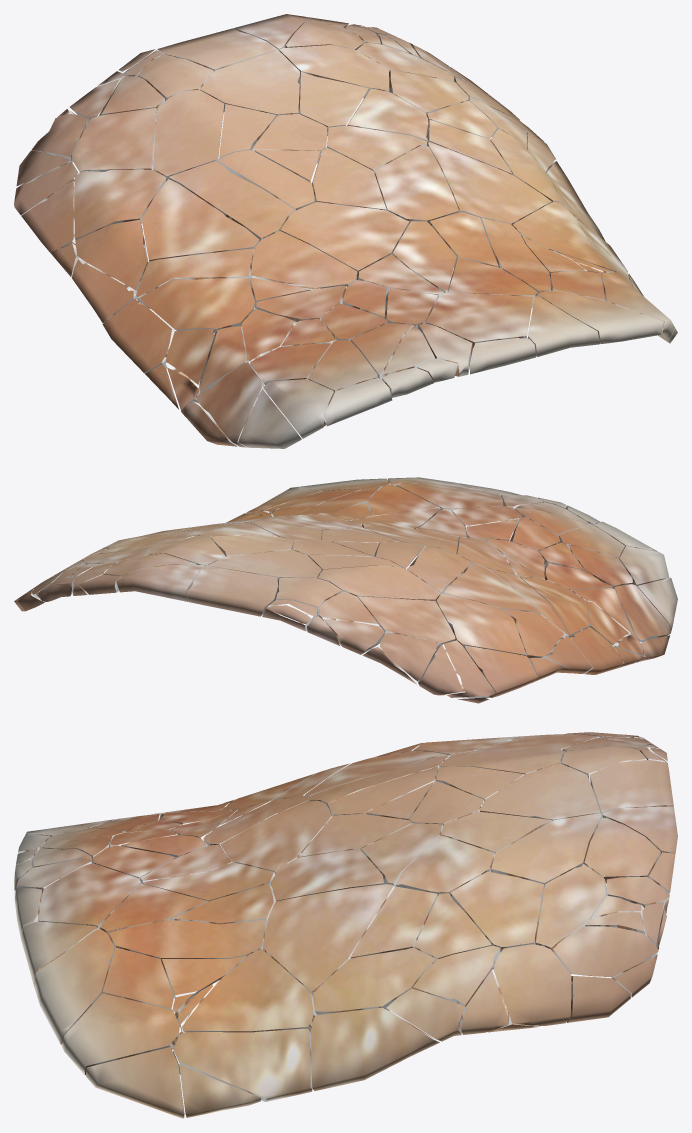
The model's file is Normal nail_dirt .fbx.
3 renders of one model, top to bottom at view 1: azimuth 30°, elevation 25°; view 2: azimuth 150°, elevation 25°; view 3: azimuth 270°, elevation 25°, orthographic. The views are drawn at different scales.
Visible parts, largest first — view 1: Normal nail dirty_cell.101, Normal nail dirty_cell.034, Normal nail dirty_cell.093, Normal nail dirty_cell.032, Normal nail dirty_cell.066, Normal nail dirty_cell.080, Normal nail dirty_cell.094, Normal nail dirty_cell.051, Normal nail dirty_cell.040, Normal nail dirty_cell.063, Normal nail dirty_cell.061, Normal nail dirty_cell.001 (+65 smaller); view 2: Normal nail dirty_cell.003, Normal nail dirty_cell.080, Normal nail dirty_cell.093, Normal nail dirty_cell.040, Normal nail dirty_cell.101, Normal nail dirty_cell.094, Normal nail dirty_cell.044, Normal nail dirty_cell.058, Normal nail dirty_cell.061, Normal nail dirty_cell.089, Normal nail dirty_cell.051, Normal nail dirty_cell.066 (+61 smaller); view 3: Normal nail dirty_cell.032, Normal nail dirty_cell.005, Normal nail dirty_cell.011, Normal nail dirty_cell.033, Normal nail dirty_cell.012, Normal nail dirty_cell.090, Normal nail dirty_cell.017, Normal nail dirty_cell.056, Normal nail dirty_cell.075, Normal nail dirty_cell.086, Normal nail dirty_cell.067, Normal nail dirty_cell.094 (+58 smaller).
Part boxes in pixels (box(x1,y1,x2,y2)): Normal nail dirty_cell.101: box(141, 179, 259, 261); Normal nail dirty_cell.034: box(280, 202, 409, 276); Normal nail dirty_cell.093: box(153, 90, 224, 180); Normal nail dirty_cell.032: box(427, 142, 551, 225); Normal nail dirty_cell.066: box(139, 278, 254, 333); Normal nail dirty_cell.080: box(74, 169, 166, 239); Normal nail dirty_cell.094: box(200, 50, 299, 116); Normal nail dirty_cell.051: box(168, 161, 294, 241); Normal nail dirty_cell.040: box(71, 108, 157, 172); Normal nail dirty_cell.063: box(374, 146, 458, 224); Normal nail dirty_cell.061: box(426, 292, 533, 347); Normal nail dirty_cell.001: box(251, 231, 357, 288); Normal nail dirty_cell.003: box(187, 565, 277, 616); Normal nail dirty_cell.080: box(436, 593, 526, 655); Normal nail dirty_cell.093: box(318, 565, 440, 601); Normal nail dirty_cell.040: box(357, 596, 455, 648); Normal nail dirty_cell.101: box(443, 563, 540, 613); Normal nail dirty_cell.094: box(207, 549, 321, 579); Normal nail dirty_cell.044: box(116, 565, 204, 601); Normal nail dirty_cell.058: box(463, 645, 537, 697); Normal nail dirty_cell.061: box(396, 484, 503, 510); Normal nail dirty_cell.089: box(614, 584, 671, 641); Normal nail dirty_cell.051: box(407, 546, 472, 596); Normal nail dirty_cell.066: box(520, 576, 589, 637); Normal nail dirty_cell.032: box(263, 884, 394, 996); Normal nail dirty_cell.005: box(173, 1028, 312, 1101); Normal nail dirty_cell.011: box(182, 949, 316, 1032); Normal nail dirty_cell.033: box(311, 1007, 439, 1091); Normal nail dirty_cell.012: box(61, 993, 181, 1074); Normal nail dirty_cell.090: box(494, 944, 571, 1025); Normal nail dirty_cell.017: box(108, 919, 266, 963); Normal nail dirty_cell.056: box(313, 947, 436, 1014); Normal nail dirty_cell.075: box(34, 929, 114, 1044); Normal nail dirty_cell.086: box(450, 871, 544, 952); Normal nail dirty_cell.067: box(491, 813, 601, 887); Normal nail dirty_cell.094: box(480, 763, 600, 820).
Size of the model in its own units: 80.95 by 30.04 by 84.73.
Materials: 1 (1 with a texture image).
